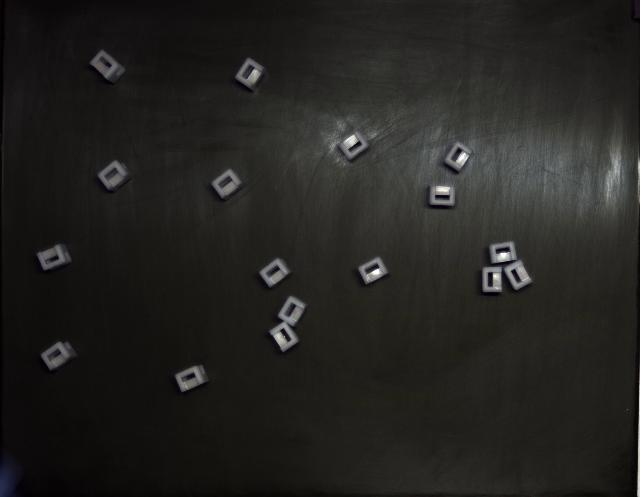fourth_side: (90, 50, 125, 84), (98, 160, 134, 191), (41, 342, 78, 371), (211, 169, 245, 200), (235, 58, 266, 91), (175, 365, 210, 392), (259, 259, 291, 288), (339, 131, 369, 160), (504, 260, 532, 290), (445, 141, 472, 172), (358, 258, 389, 285), (489, 241, 518, 264), (429, 186, 455, 206)
